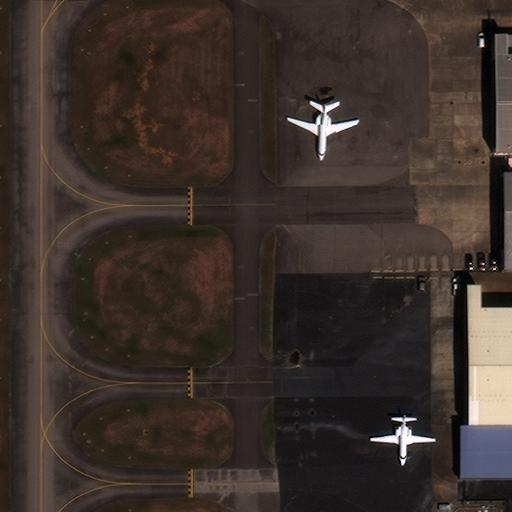Medium Civil Transport: (286, 102, 357, 160), (369, 412, 434, 465)
